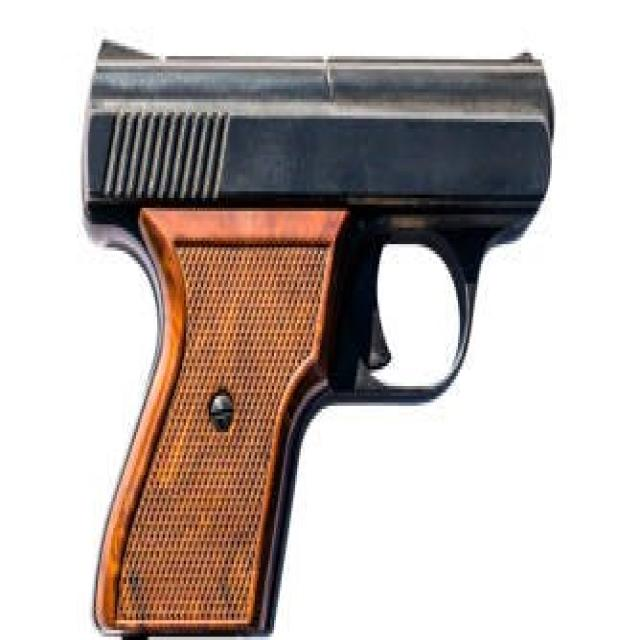pistol: (53, 36, 561, 640)
